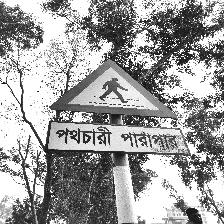Pedestrian-crossing: (47, 59, 186, 155)
